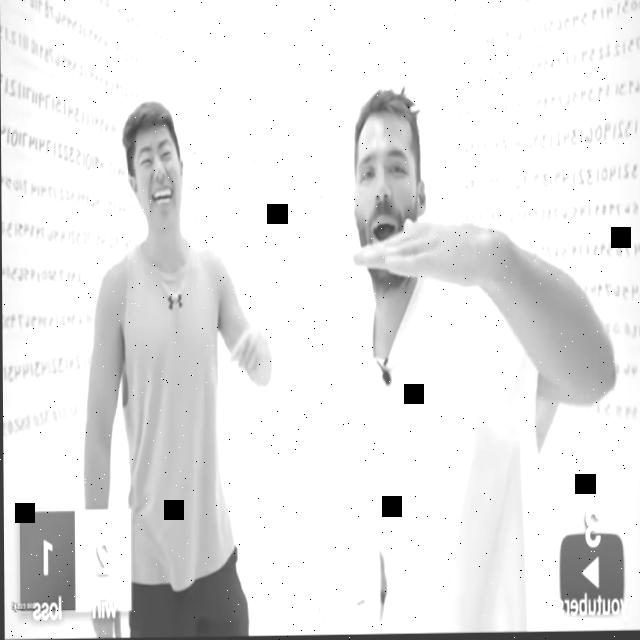Paper: (350, 216, 500, 292)
